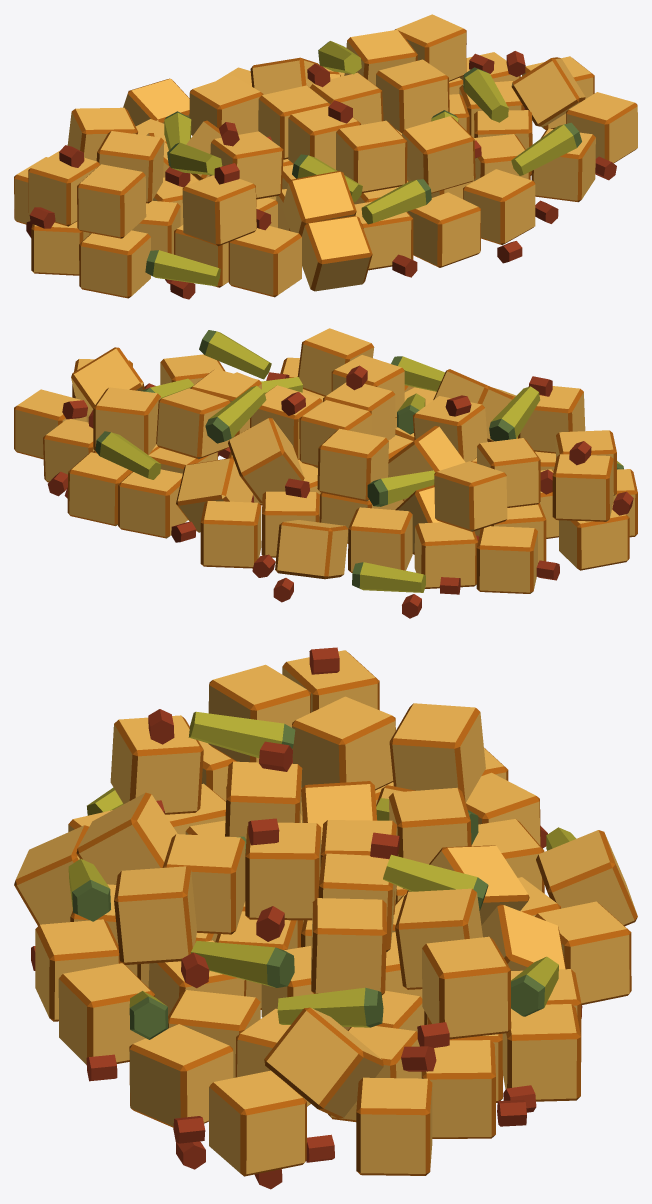
The model's file is Tofu sisig.fbx.
3 renders of one model, top to bottom at view 1: azimuth 30°, elevation 25°; view 2: azimuth 150°, elevation 25°; view 3: azimuth 270°, elevation 25°, orthographic. The views are drawn at different scales.
Parts seen in each view (by area): view 1: Tofu Sisig; view 2: Tofu Sisig; view 3: Tofu Sisig.
Boxes of the visible parts, left/top/right/bottom form: Tofu Sisig: left=14, top=14, right=637, bottom=299; Tofu Sisig: left=14, top=328, right=637, bottom=618; Tofu Sisig: left=14, top=647, right=637, bottom=1189.
Bounding box in the file's own units: 114 × 32.83 × 74.3.
